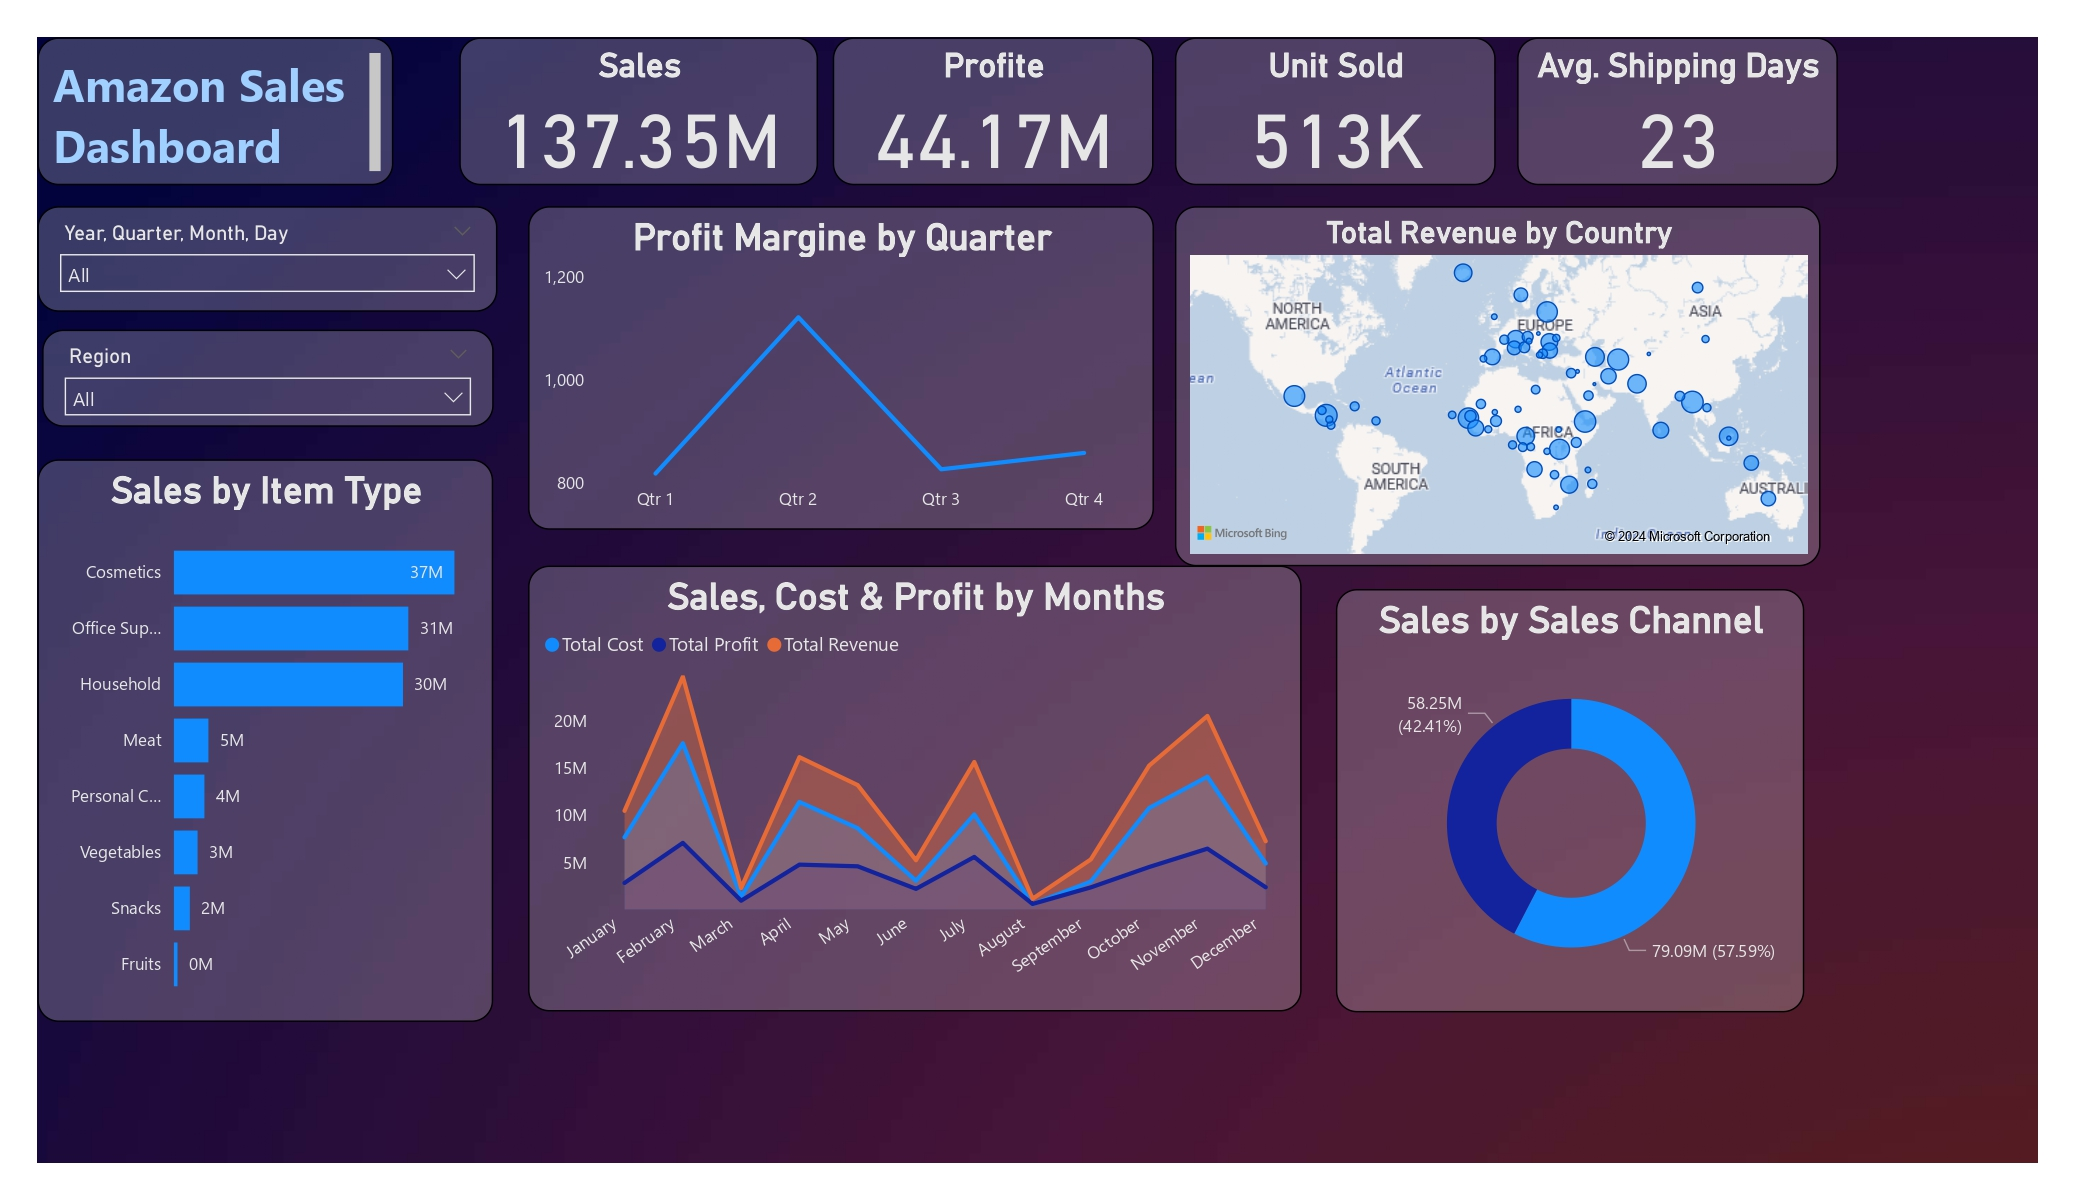

What the dashboard file says about the page in this screenshot:
{"tool":"powerbi","page":{"name":"Page 1","canvas":[1280,720],"ordinal":0},"visuals":[{"type":"card","title":"Sales","fields":{"Values":["Sum(Amazon Sales data.Total Revenue)"]},"box":[299.5,0,254.9,105.1],"z":0},{"type":"card","title":"Avg. Shipping Days","fields":{"Values":["Avg(Amazon Sales data.Avg. Shipping Days)"]},"box":[1052.6,0,227.5,105.1],"z":1000},{"type":"card","title":"Unit Sold","fields":{"Values":["Sum(Amazon Sales data.Units Sold)"]},"box":[809.3,0,227.5,105.1],"z":2000},{"type":"card","title":"Profite","fields":{"Values":["Sum(Amazon Sales data.Total Profit)"]},"box":[565.9,0,227.5,105.1],"z":3000},{"type":"areaChart","title":"Sales, Cost & Profit by Months","fields":{"Category":["Amazon Sales data.Order Date.Variation.Date Hierarchy.Month"],"Y":["Sum(Amazon Sales data.Total Cost)","Sum(Amazon Sales data.Total Profit)","Sum(Amazon Sales data.Total Revenue)"]},"box":[348.5,375.8,550.1,316.8],"z":4000},{"type":"lineChart","title":"Profit Margine by Quarter","fields":{"Category":["Amazon Sales data.Order Date.Variation.Date Hierarchy.Quarter"],"Y":["Sum(Amazon Sales data.Profit Margine)"]},"box":[348.5,119.5,445,230.4],"z":5000},{"type":"donutChart","title":"Sales by Sales Channel","fields":{"Y":["Sum(Amazon Sales data.Total Revenue)"],"Category":["Amazon Sales data.Sales Channel"]},"box":[923,391.7,332.6,301],"z":6000},{"type":"map","title":"Total Revenue by Country","fields":{"Category":["Amazon Sales data.Country"],"Size":["Sum(Amazon Sales data.Total Revenue)"]},"box":[809.3,119.5,459.4,256.3],"z":7000},{"type":"barChart","title":"Sales by Item Type","fields":{"Category":["Amazon Sales data.Item Type"],"Y":["Sum(Amazon Sales data.Total Revenue)"]},"box":[0,299.5,324,400.3],"z":8000},{"type":"slicer","fields":{"Values":["Amazon Sales data.Order Date.Variation.Date Hierarchy.Year","Amazon Sales data.Order Date.Variation.Date Hierarchy.Quarter","Amazon Sales data.Order Date.Variation.Date Hierarchy.Month","Amazon Sales data.Order Date.Variation.Date Hierarchy.Day"]},"box":[0,119.5,326.9,74.9],"z":9000},{"type":"slicer","fields":{"Values":["Amazon Sales data.Region"]},"box":[2.9,207.4,321.1,69.1],"z":10000},{"type":"textbox","box":[0,0,253.4,105.1],"z":11000}]}

Visuals, with their boxes in screenshot pixels (x1, y1, x2, y2):
"Sales" card: [x1=505, y1=38, x2=904, y2=202]
"Avg. Shipping Days" card: [x1=1682, y1=38, x2=2038, y2=202]
"Unit Sold" card: [x1=1302, y1=38, x2=1658, y2=202]
"Profite" card: [x1=922, y1=38, x2=1277, y2=202]
"Sales, Cost & Profit by Months" areaChart: [x1=582, y1=625, x2=1442, y2=1120]
"Profit Margine by Quarter" lineChart: [x1=582, y1=224, x2=1277, y2=584]
"Sales by Sales Channel" donutChart: [x1=1480, y1=650, x2=1999, y2=1120]
"Total Revenue by Country" map: [x1=1302, y1=224, x2=2020, y2=625]
"Sales by Item Type" barChart: [x1=38, y1=505, x2=544, y2=1131]
slicer - Amazon Sales data.Order Date.Variation.Date Hierarchy.Year x Amazon Sales data.Order Date.Variation.Date Hierarchy.Quarter: [x1=38, y1=224, x2=548, y2=341]
slicer - Amazon Sales data.Region: [x1=42, y1=362, x2=544, y2=470]
textbox: [x1=38, y1=38, x2=433, y2=202]
